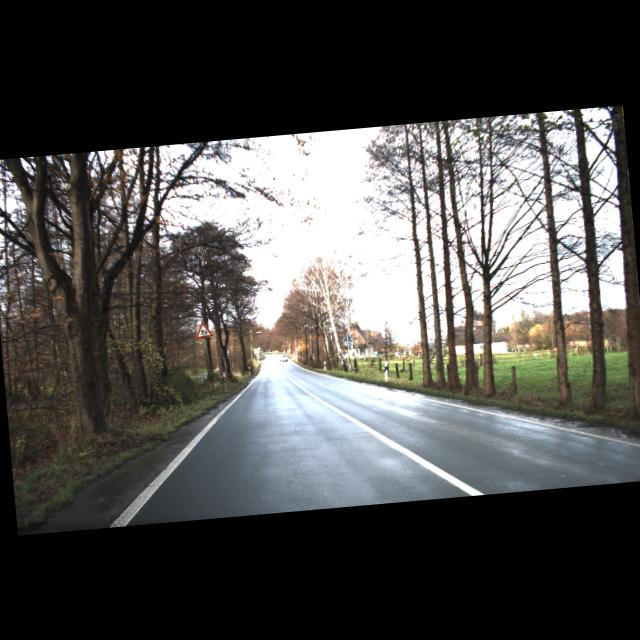danger: (194, 320, 213, 338)
